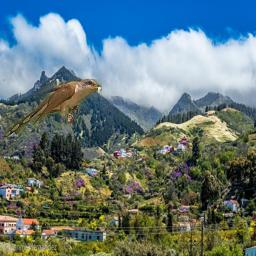Cuckoo: (3, 79, 102, 137)
